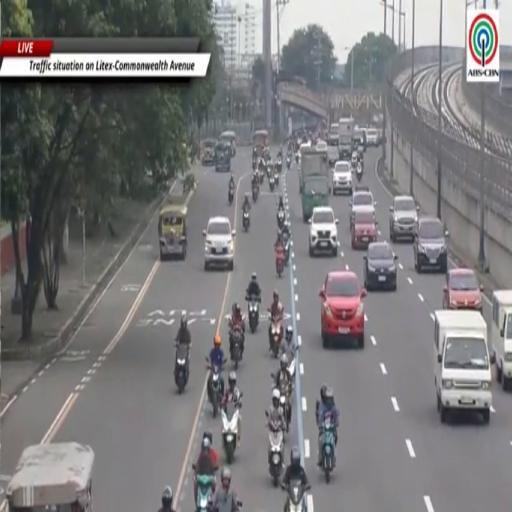car: (319, 271, 366, 348), (414, 216, 449, 273), (443, 268, 483, 312), (203, 217, 235, 270), (364, 242, 398, 291), (309, 206, 338, 257), (390, 196, 419, 242), (349, 186, 376, 225), (351, 211, 377, 249), (333, 162, 352, 195), (328, 139, 338, 167), (366, 128, 379, 147), (316, 140, 327, 153)
jeepney: (6, 442, 94, 511), (159, 204, 187, 260), (215, 141, 231, 171), (219, 131, 236, 156), (253, 130, 268, 157), (201, 139, 215, 166)
motorcycle: (222, 403, 241, 463), (268, 420, 284, 487), (206, 357, 223, 418), (282, 479, 310, 511), (322, 415, 335, 483), (174, 344, 189, 394), (196, 475, 214, 511), (281, 344, 296, 385), (230, 326, 243, 370), (280, 382, 291, 433), (270, 318, 282, 358), (248, 297, 259, 333), (276, 246, 285, 278), (282, 232, 290, 265), (242, 210, 250, 232), (277, 210, 285, 229), (252, 184, 258, 202), (228, 187, 234, 205), (356, 165, 362, 182), (269, 174, 275, 191), (209, 503, 220, 511), (259, 168, 264, 184), (274, 170, 279, 186), (267, 164, 272, 179), (277, 157, 282, 172), (286, 156, 290, 169), (295, 153, 299, 164)
truck: (434, 310, 495, 423), (300, 150, 330, 221), (491, 291, 511, 391), (339, 118, 354, 161), (327, 123, 338, 145)
